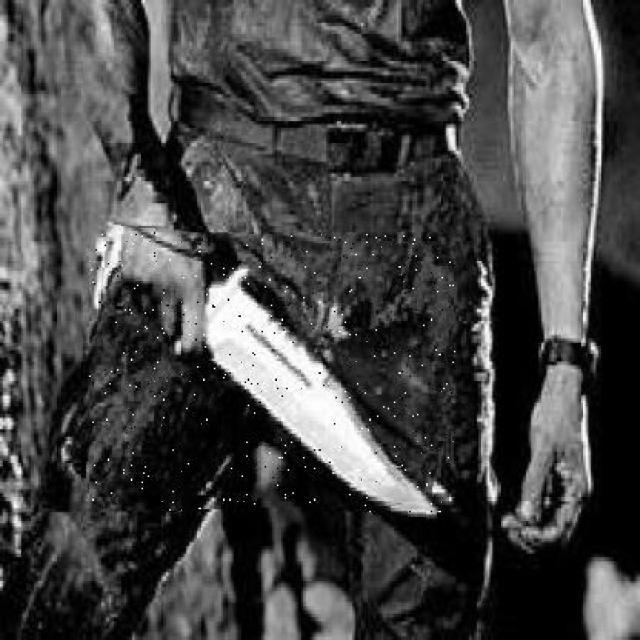knife: (90, 232, 456, 512)
